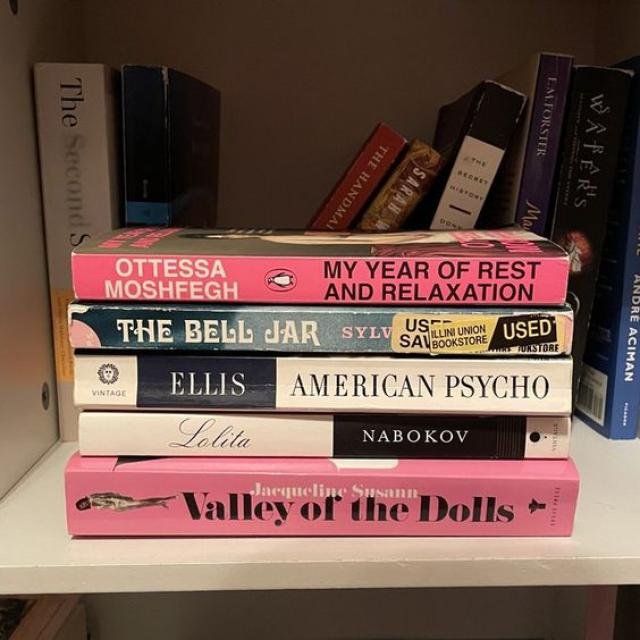book: (65, 453, 579, 538), (73, 350, 572, 413), (69, 305, 569, 355), (79, 410, 571, 458), (71, 252, 565, 298)
